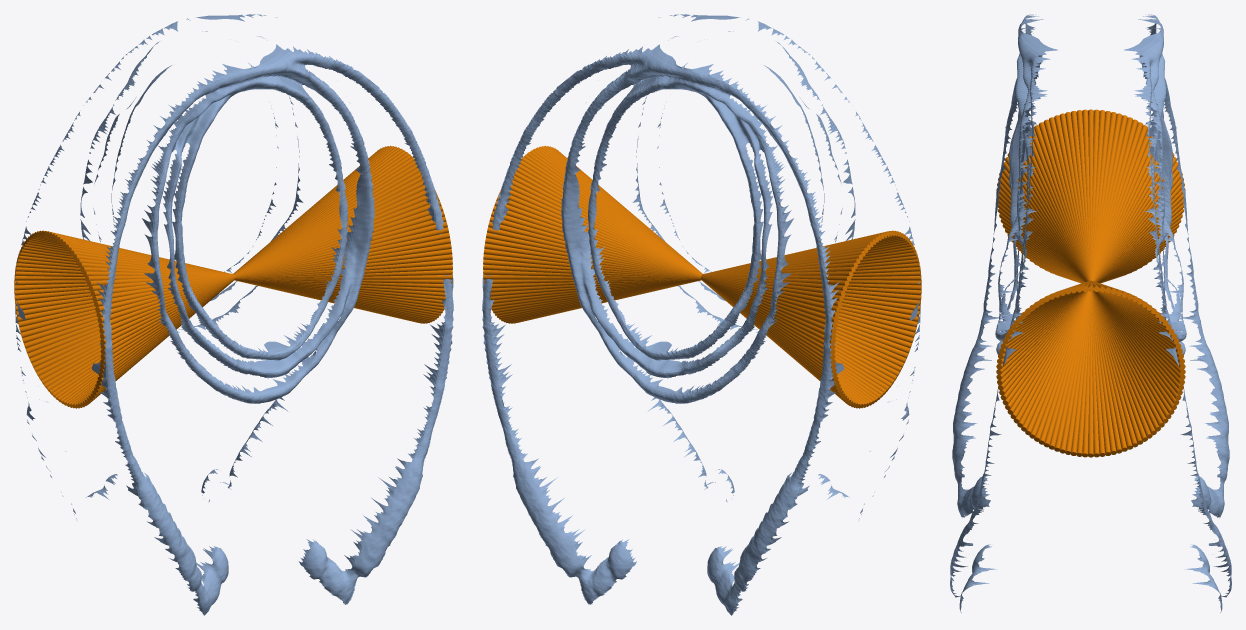
Rendered from A60026429-5_5995-37-523-8231_DigitalTwin.glb.
3 renders of one model, left to right at view 1: azimuth 30°, elevation 25°; view 2: azimuth 150°, elevation 25°; view 3: azimuth 270°, elevation 25°, orthographic. The views are drawn at different scales.
Visible parts, largest first — view 1: world; view 2: world; view 3: world.
Part boxes in pixels (left/top/right/bottom): world: left=14, top=14, right=453, bottom=615; world: left=482, top=14, right=921, bottom=615; world: left=950, top=14, right=1231, bottom=612.
Bounding box in the file's own units: 281 × 408 × 187.
